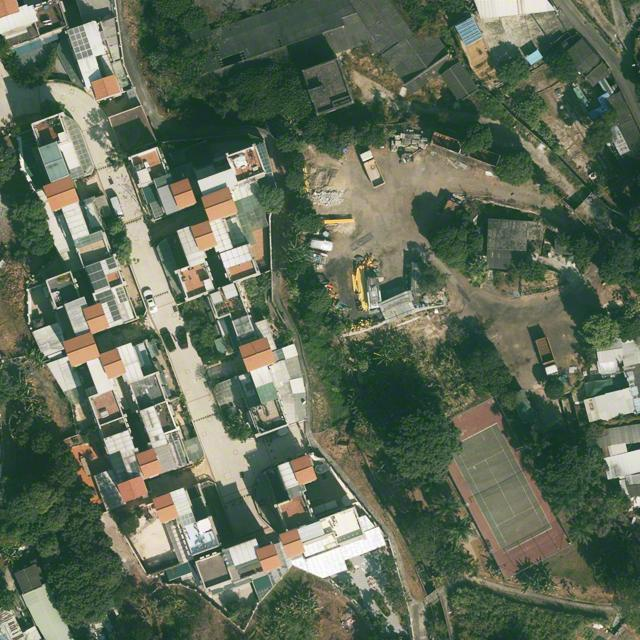panel: (67, 25, 94, 60), (85, 261, 109, 291), (103, 289, 122, 322)
